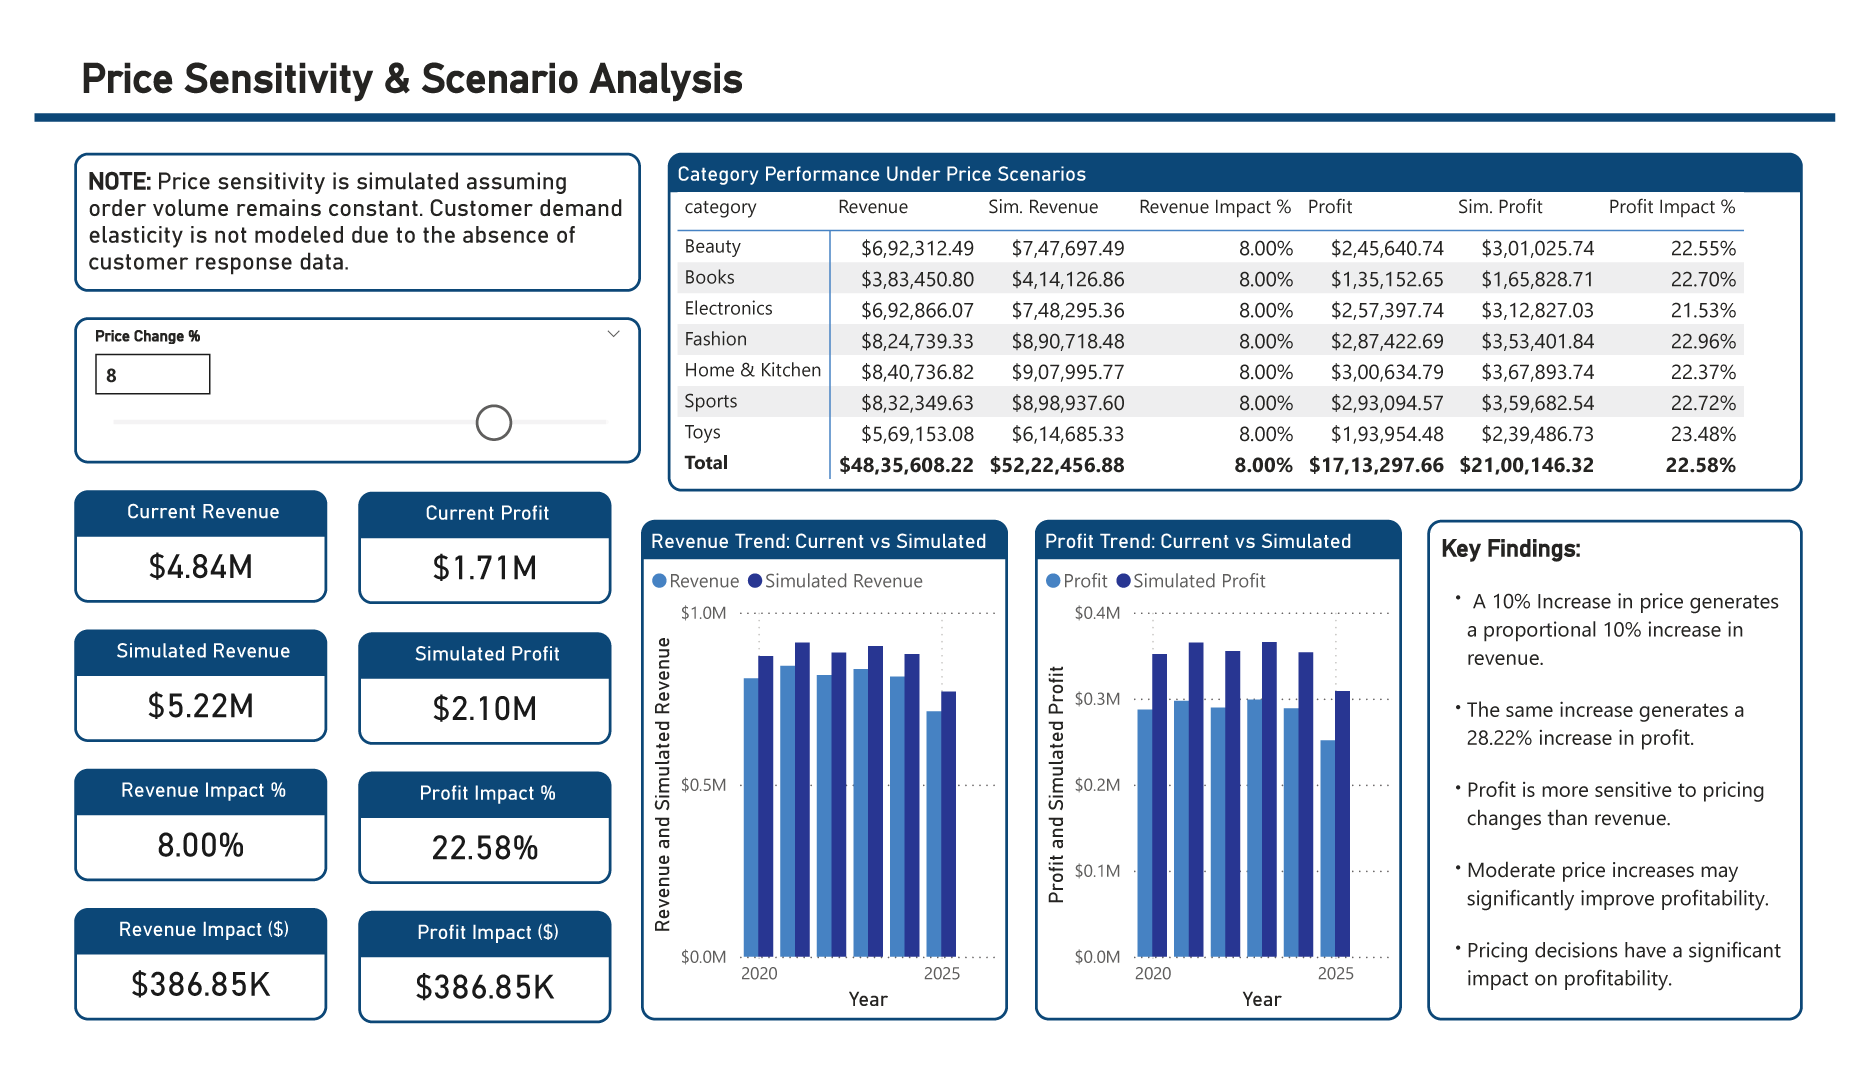

This screenshot's page, from the dashboard's own definition file:
{"tool":"powerbi","page":{"name":"5 - Product Performance Analysis","canvas":[1280,720],"ordinal":4},"visuals":[{"type":"textbox","box":[28.2,9.1,859.1,50],"z":0},{"type":"shape","box":[0,46,1280,26],"z":1000},{"type":"clusteredColumnChart","title":"Revenue Trend: Current vs Simulated","fields":{"Category":["Date_Table.Year"],"Y":["Measures_Table.KPI - Total_Revenue","Measures_Table.Sim - Simulated Revenue"]},"box":[430.9,345.5,260.9,355.5],"z":2000},{"type":"card","title":"Simulated Revenue","fields":{"Values":["Measures_Table.Sim - Simulated Revenue"]},"box":[28.2,422.9,180,80],"z":3000},{"type":"slicer","fields":{"Values":["Price Change %.Price Change %"]},"box":[28.2,200.9,402.7,104.5],"z":4000},{"type":"textbox","box":[28.2,83.6,402.7,99.1],"z":5000},{"type":"card","title":"Revenue Impact ($)","fields":{"Values":["Measures_Table.Sim - Revenue Impact"]},"box":[28.2,620.9,180,80],"z":6000},{"type":"card","title":"Simulated Profit","fields":{"Values":["Measures_Table.Sim - Simulated Profit"]},"box":[230,424.7,180,80],"z":7000},{"type":"card","title":"Profit Impact ($)","fields":{"Values":["Measures_Table.Sim - Profit Impact"]},"box":[230,622.7,180,80],"z":8000},{"type":"card","title":"Current Revenue","fields":{"Values":["Measures_Table.KPI - Total_Revenue"]},"box":[28.2,323.5,180,80],"z":9000},{"type":"card","title":"Current Profit","fields":{"Values":["Measures_Table.KPI - Total_profit"]},"box":[230,325.5,180,80],"z":10000},{"type":"card","title":"Profit Impact %","fields":{"Values":["Measures_Table.Sim - Profit Impact %"]},"box":[230,523.9,180,80],"z":11000},{"type":"card","title":"Revenue Impact %","fields":{"Values":["Measures_Table.sim - Revenue Impact %"]},"box":[28.2,522.4,180,80],"z":12000},{"type":"clusteredColumnChart","title":"Profit Trend: Current vs Simulated","fields":{"Category":["Date_Table.Year"],"Y":["Measures_Table.KPI - Total_profit","Measures_Table.Sim - Simulated Profit"]},"box":[710.9,345.5,260.9,355.5],"z":13000},{"type":"pivotTable","title":"Category Performance Under Price Scenarios","fields":{"Rows":["products.category"],"Values":["Measures_Table.KPI - Total_Revenue","Measures_Table.Sim - Simulated Revenue","Measures_Table.Sim - Revenue Impact %","Measures_Table.KPI - Total_profit","Measures_Table.Sim - Simulated Profit","Measures_Table.Sim - Profit Impact %"]},"box":[450,83.6,807.3,241.8],"z":14000},{"type":"textbox","box":[990,345.5,267.3,355.5],"z":15000}]}

Visuals, with their boxes in screenshot pixels (x1, y1, x2, y2), scaled from the page's 1280x720 canvas onto the 1868x1080 screenshot:
textbox: pyautogui.locateOnScreen(41, 14, 1295, 89)
shape: pyautogui.locateOnScreen(0, 69, 1867, 108)
"Revenue Trend: Current vs Simulated" clusteredColumnChart: pyautogui.locateOnScreen(629, 518, 1010, 1052)
"Simulated Revenue" card: pyautogui.locateOnScreen(41, 634, 304, 754)
slicer - Price Change %.Price Change %: pyautogui.locateOnScreen(41, 301, 629, 458)
textbox: pyautogui.locateOnScreen(41, 125, 629, 274)
"Revenue Impact ($)" card: pyautogui.locateOnScreen(41, 931, 304, 1051)
"Simulated Profit" card: pyautogui.locateOnScreen(336, 637, 598, 757)
"Profit Impact ($)" card: pyautogui.locateOnScreen(336, 934, 598, 1054)
"Current Revenue" card: pyautogui.locateOnScreen(41, 485, 304, 605)
"Current Profit" card: pyautogui.locateOnScreen(336, 488, 598, 608)
"Profit Impact %" card: pyautogui.locateOnScreen(336, 786, 598, 906)
"Revenue Impact %" card: pyautogui.locateOnScreen(41, 784, 304, 904)
"Profit Trend: Current vs Simulated" clusteredColumnChart: pyautogui.locateOnScreen(1037, 518, 1418, 1052)
"Category Performance Under Price Scenarios" pivotTable: pyautogui.locateOnScreen(657, 125, 1835, 488)
textbox: pyautogui.locateOnScreen(1445, 518, 1835, 1052)
